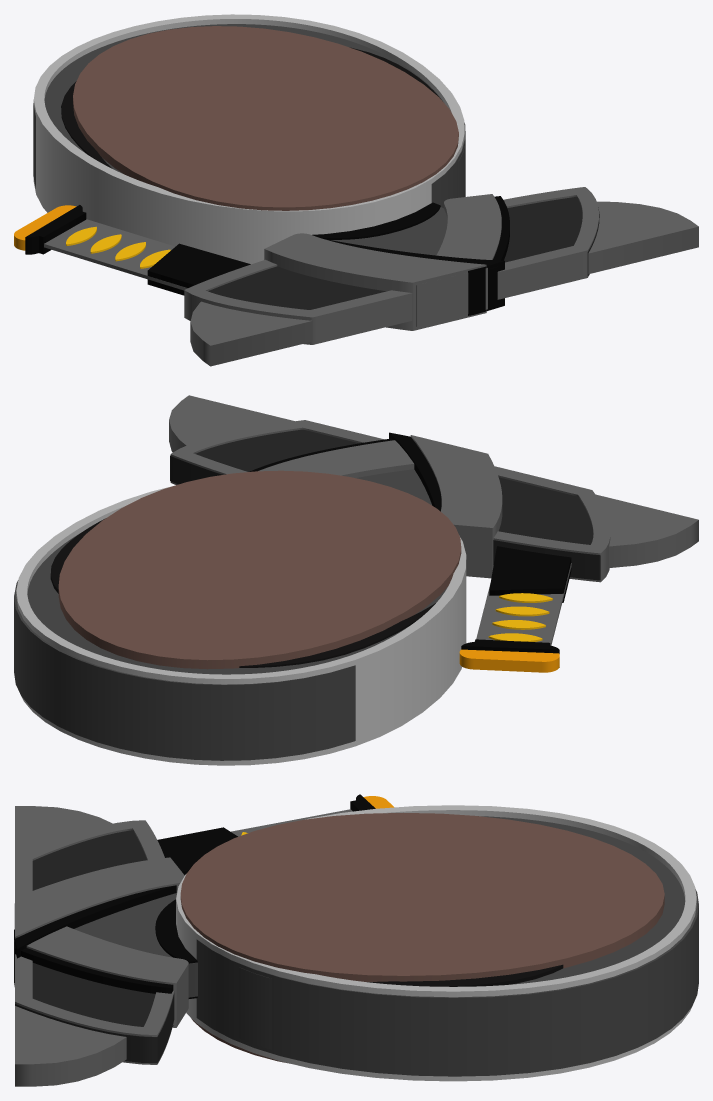
Rendered from emoji_u1f977_1f3ff.glb.
The picture shows the model from 3 angles, top to bottom: view 1: azimuth 30°, elevation 25°; view 2: azimuth 150°, elevation 25°; view 3: azimuth 270°, elevation 25°; orthographic projection. The views are drawn at different scales.
Visible parts, largest first — view 1: emoji_u1f977_1f3ff; view 2: emoji_u1f977_1f3ff; view 3: emoji_u1f977_1f3ff.
Part boxes in pixels (x1,y1,x2,y2): emoji_u1f977_1f3ff: (14, 14, 698, 366); emoji_u1f977_1f3ff: (14, 395, 698, 765); emoji_u1f977_1f3ff: (14, 794, 698, 1086).
Bounding box in the file's own units: 0.0314 × 0.0052 × 0.0332.
